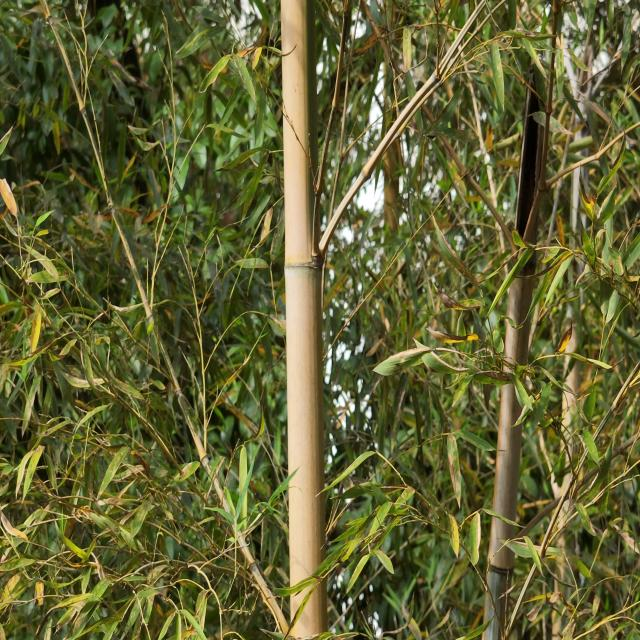Bamboo-shoots: (280, 0, 327, 640)
